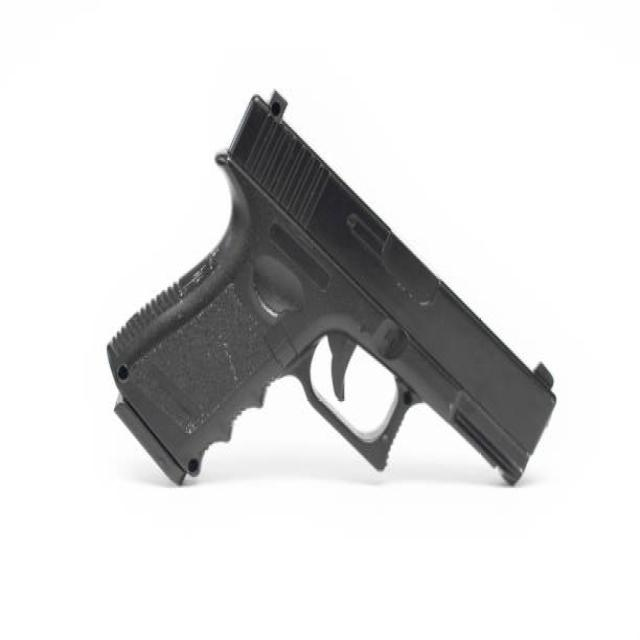pistol: (100, 78, 561, 494)
